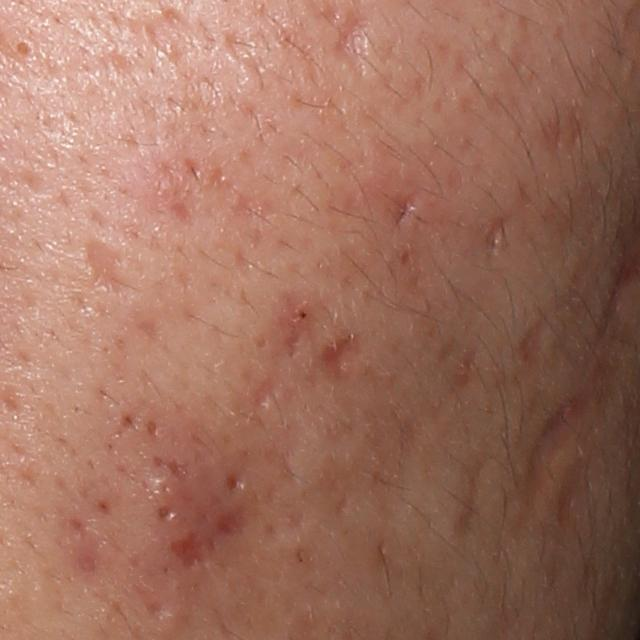atrophic_scar: (295, 384, 415, 535), (510, 370, 602, 543), (108, 10, 211, 86), (62, 30, 140, 98), (476, 182, 538, 263), (450, 437, 494, 539), (78, 236, 140, 303), (325, 319, 369, 385), (168, 527, 211, 568), (382, 190, 421, 234), (521, 308, 549, 359), (212, 505, 251, 539), (250, 370, 274, 409), (165, 457, 196, 483), (225, 470, 245, 493)
comedo: (157, 498, 179, 521), (146, 414, 163, 440)
